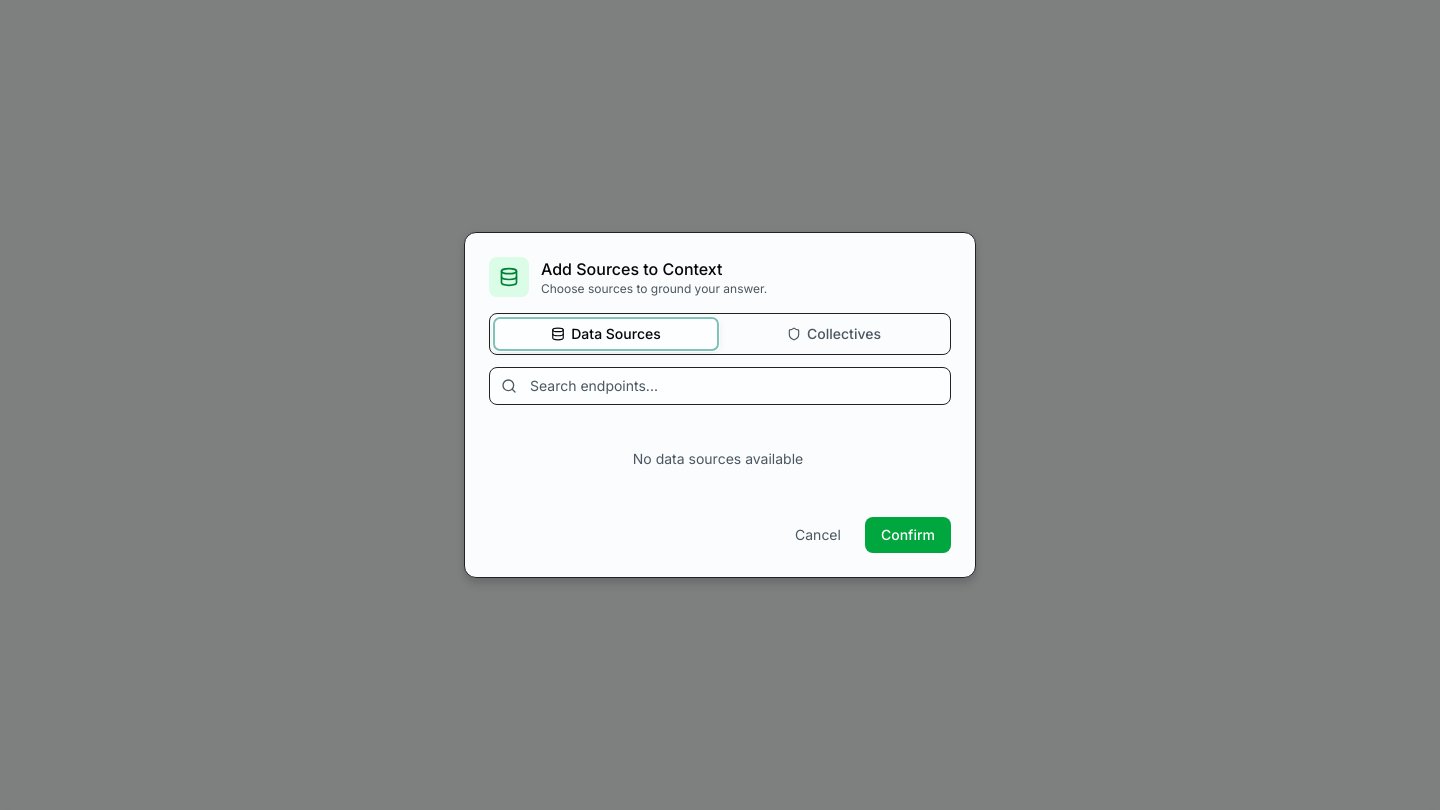
it: AddSourcesModal › collective selection and confirm › updates the confirm button label to show selected count
This screenshot has width=1440, height=810.
Check: the button "Confirm" is shown, box x1=865 y1=517 x2=951 y2=553
Click the button "Collectives" at (834, 334), box x1=722 y1=318 x2=946 y2=350
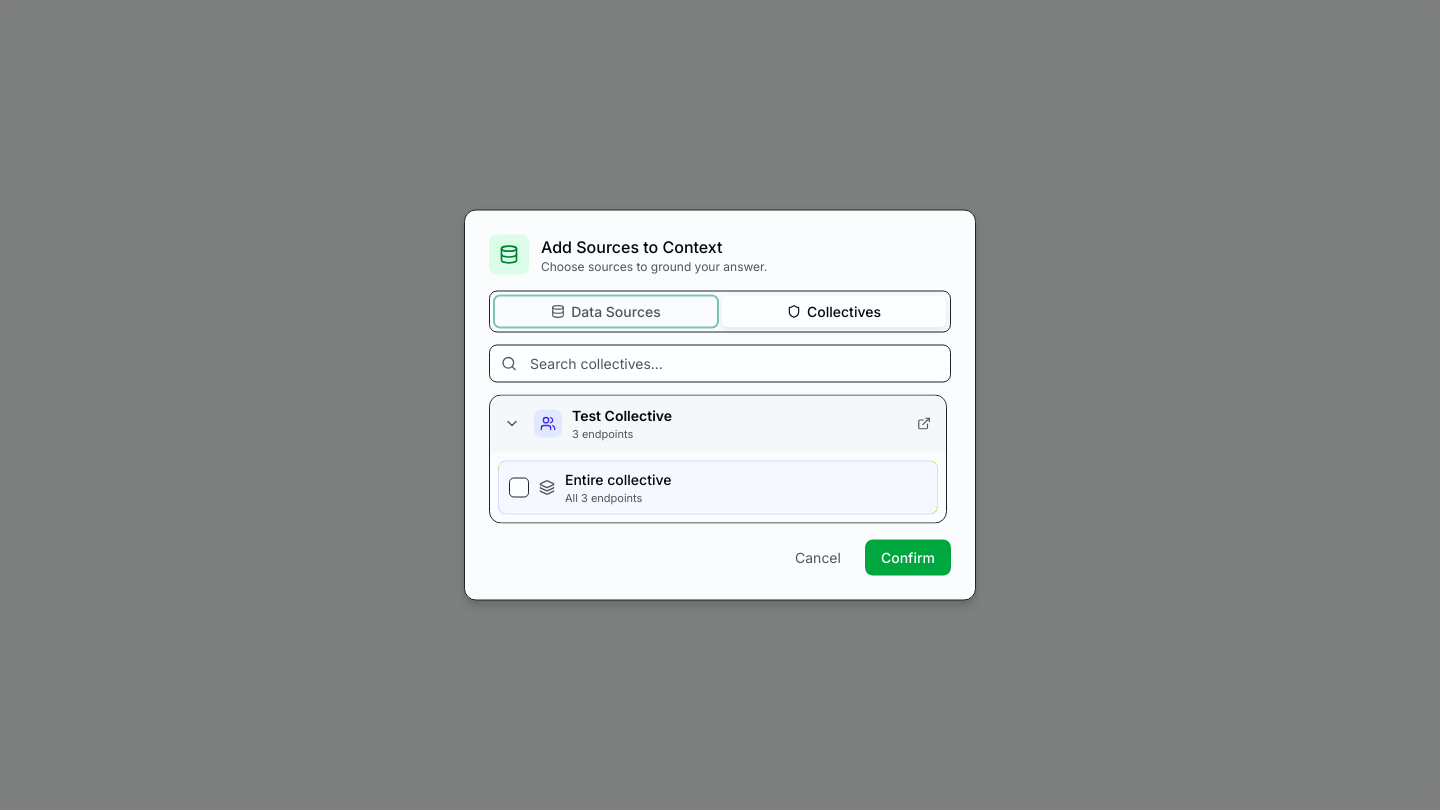
Click the button "Entire collective All 3 endpoints" at (618, 478), box x1=498 y1=460 x2=938 y2=514
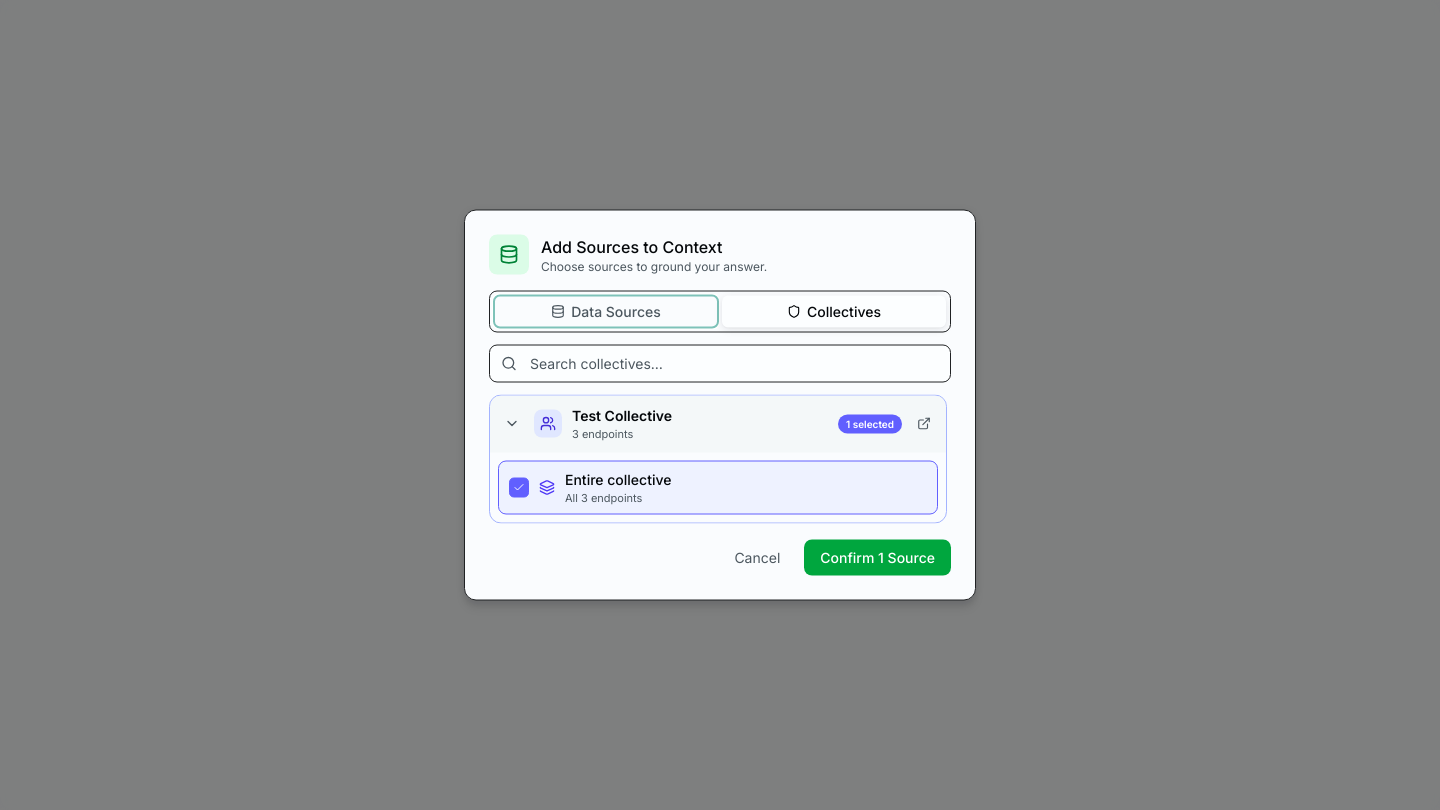
Check: the button "Confirm 1 Source" is shown, box x1=804 y1=540 x2=951 y2=576
